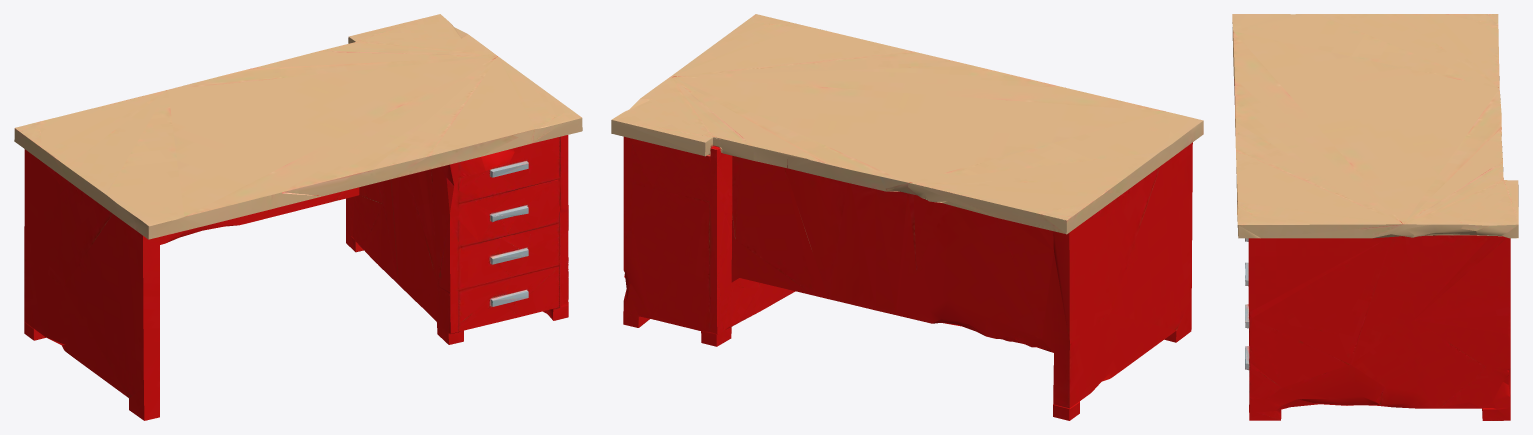
The model's file is desk.glb.
3 views of the same model, side by side, from view 1: azimuth 30°, elevation 25°; view 2: azimuth 150°, elevation 25°; view 3: azimuth 270°, elevation 25° (orthographic). The views are drawn at different scales.
Bounding box in the file's own units: 1.9 × 0.8418 × 1.09.
Materials: 1 (1 with a texture image).
